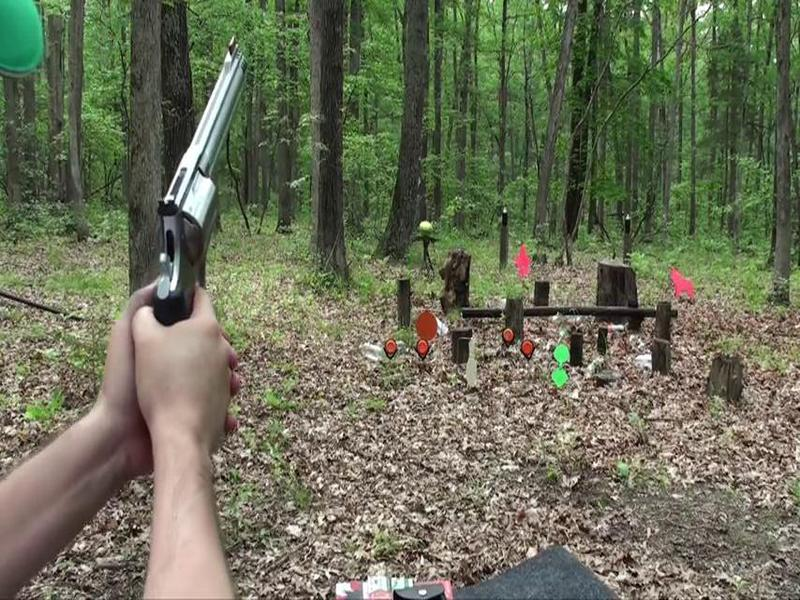Revolver: (120, 34, 276, 365)
